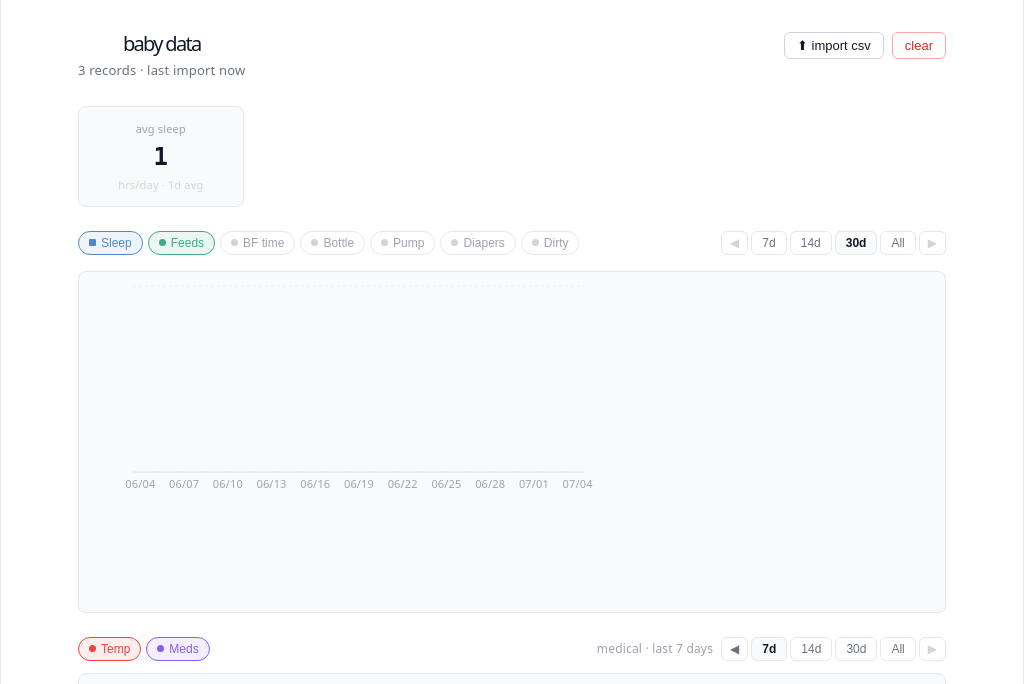
Test: NaraAnalytics window paging › paging the medical chart back shows the window dates, forward returns
The width and height of the screenshot is (1024, 684).
Step 1. Click the button named "earlier" → (735, 649), box [721,637,748,661]
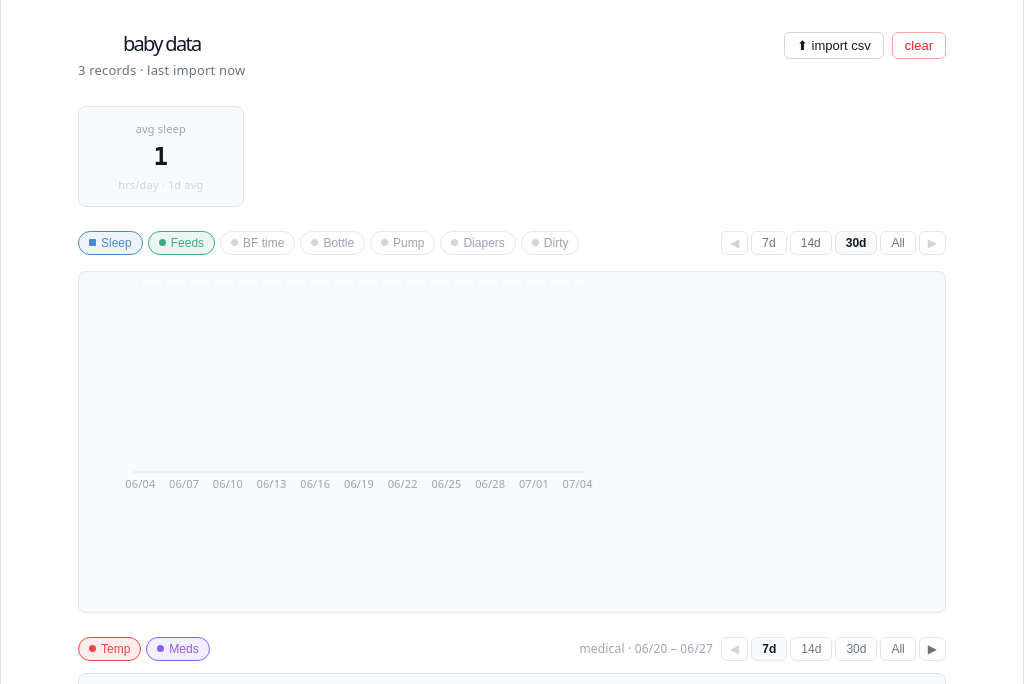
Expected: the text "medical · 06/20 – 06/27" is shown, [579,637,713,660]
Expected: the button named "later" is enabled
Step 2. Click the button named "later" → (932, 649), box [919,637,946,661]
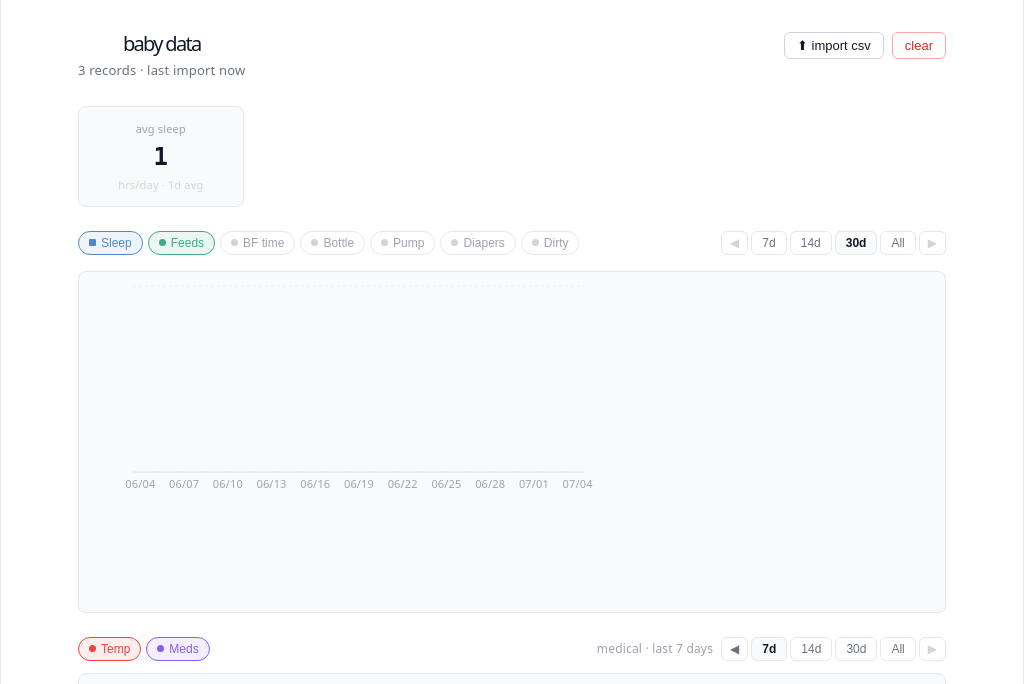
Expected: the text "medical · last 7 days" is shown, [597,637,713,660]
